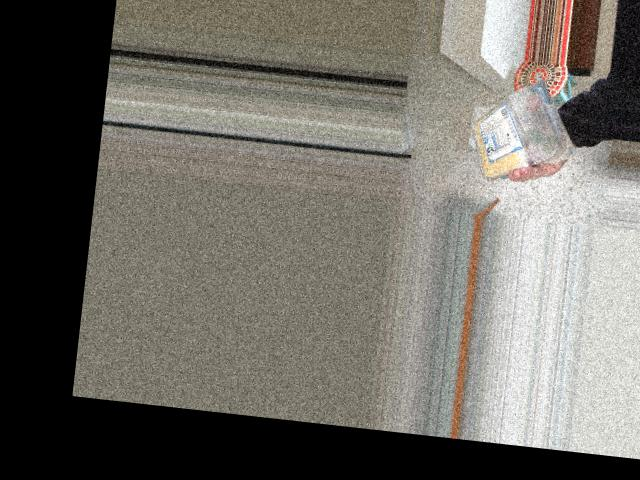cheese: (459, 70, 575, 174)
